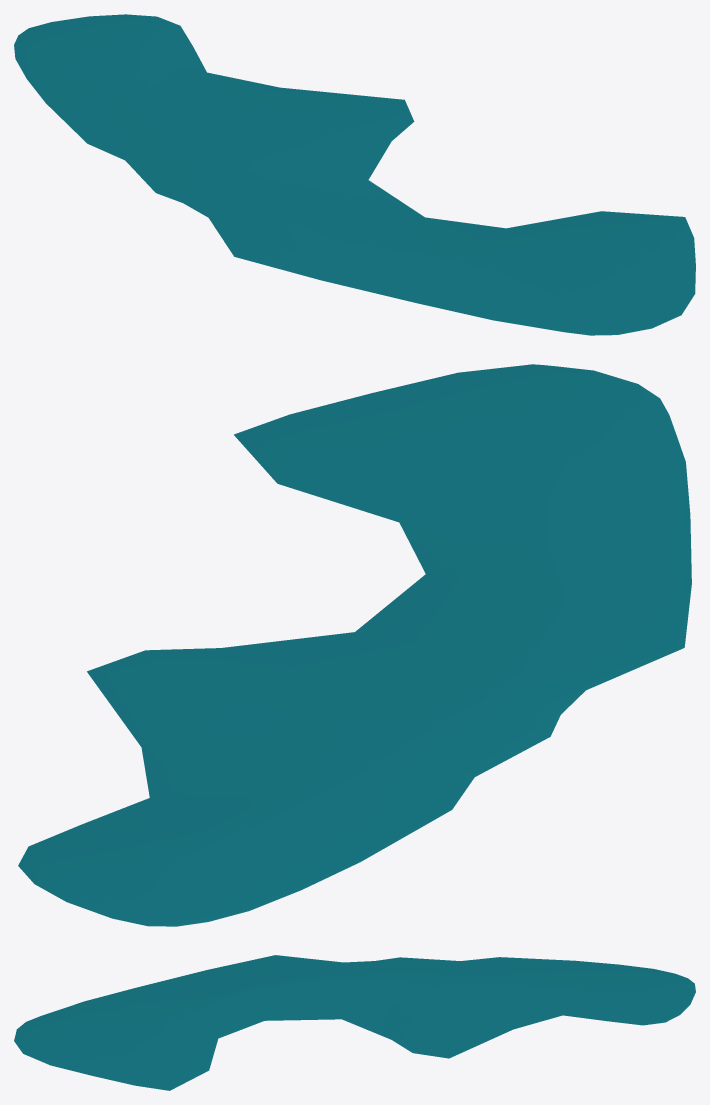
File: Lake4.fbx
3 renders of one model, top to bottom at view 1: azimuth 30°, elevation 25°; view 2: azimuth 150°, elevation 25°; view 3: azimuth 270°, elevation 25°, orthographic. The views are drawn at different scales.
Visible parts, largest first — view 1: Lake4; view 2: Lake4; view 3: Lake4.
Part boxes in pixels (bbox=[...]): Lake4: bbox=[14, 14, 695, 335]; Lake4: bbox=[18, 364, 691, 926]; Lake4: bbox=[14, 955, 695, 1090].
Bounding box in the file's own units: 2303 × 13.5 × 4885.
Materials: 1 (1 with a texture image).
